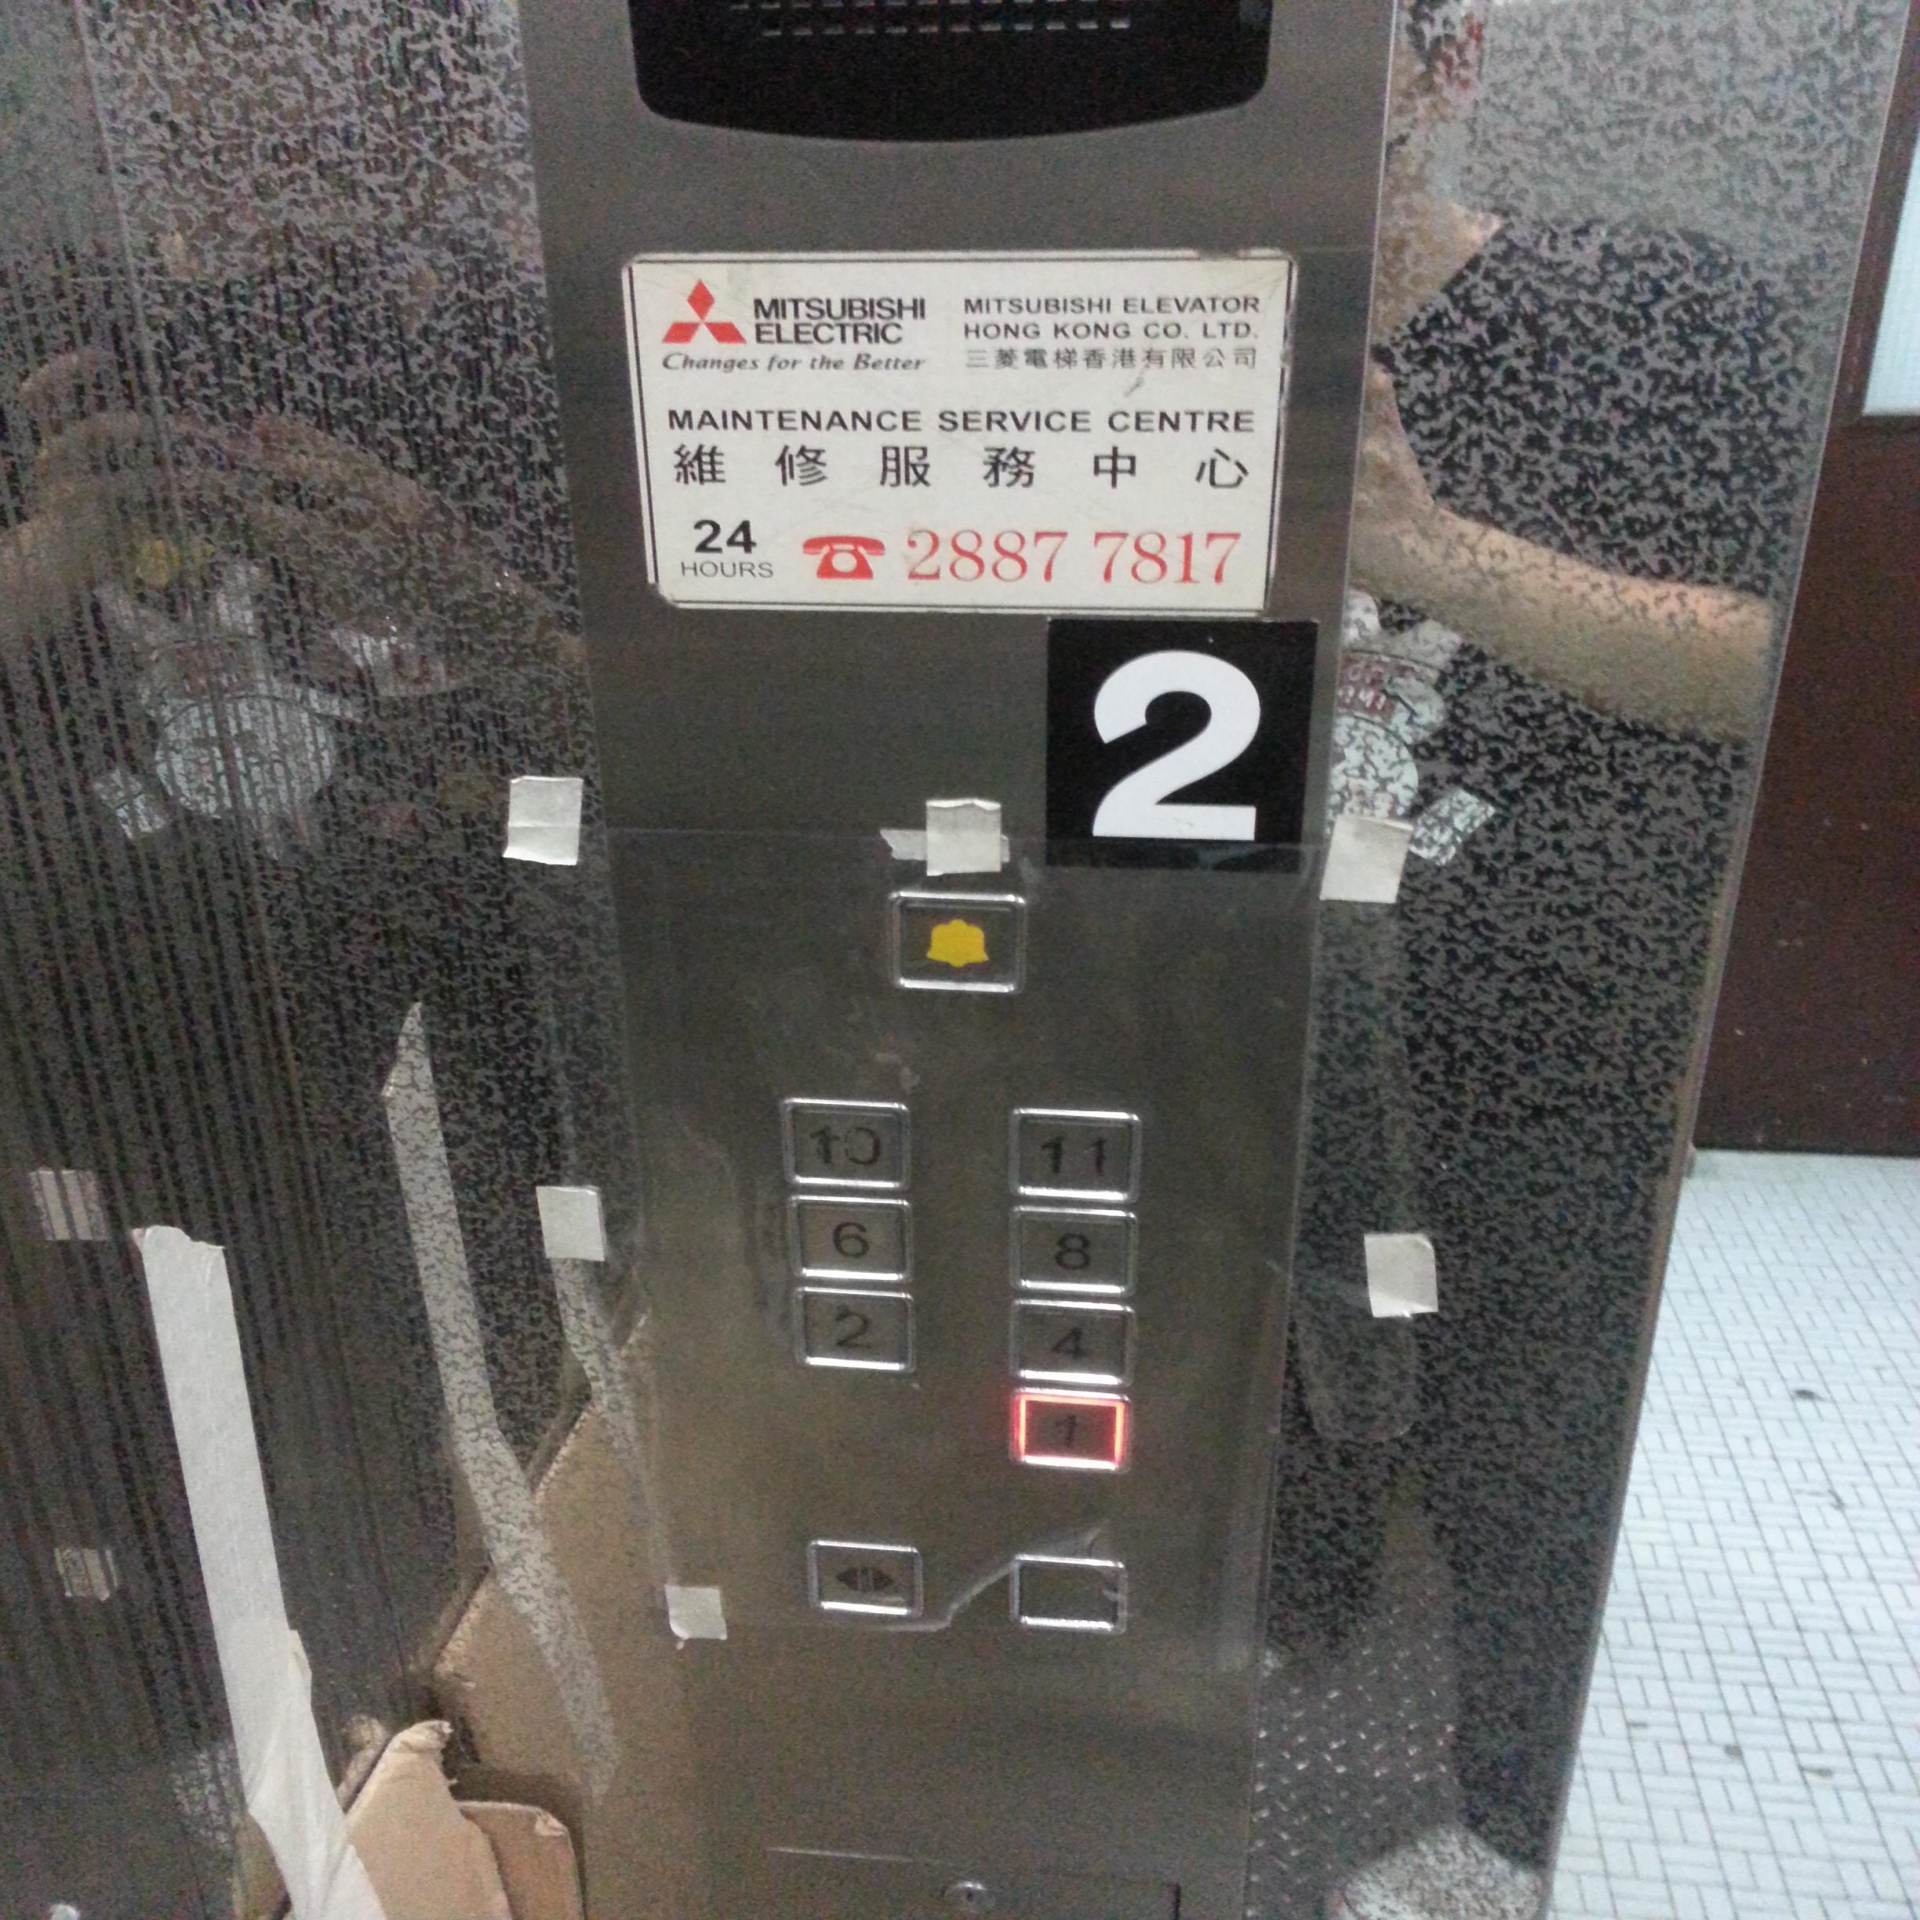1: (1007, 1382, 1136, 1480)
10: (774, 1088, 913, 1196)
11: (1009, 1104, 1150, 1210)
2: (1034, 607, 1320, 872), (788, 1282, 920, 1377)
4: (1006, 1294, 1138, 1394)
6: (786, 1190, 918, 1291)
8: (1006, 1203, 1143, 1303)
alarm: (886, 883, 1037, 999)
empty: (1006, 1547, 1129, 1639)
open: (807, 1535, 932, 1623)
